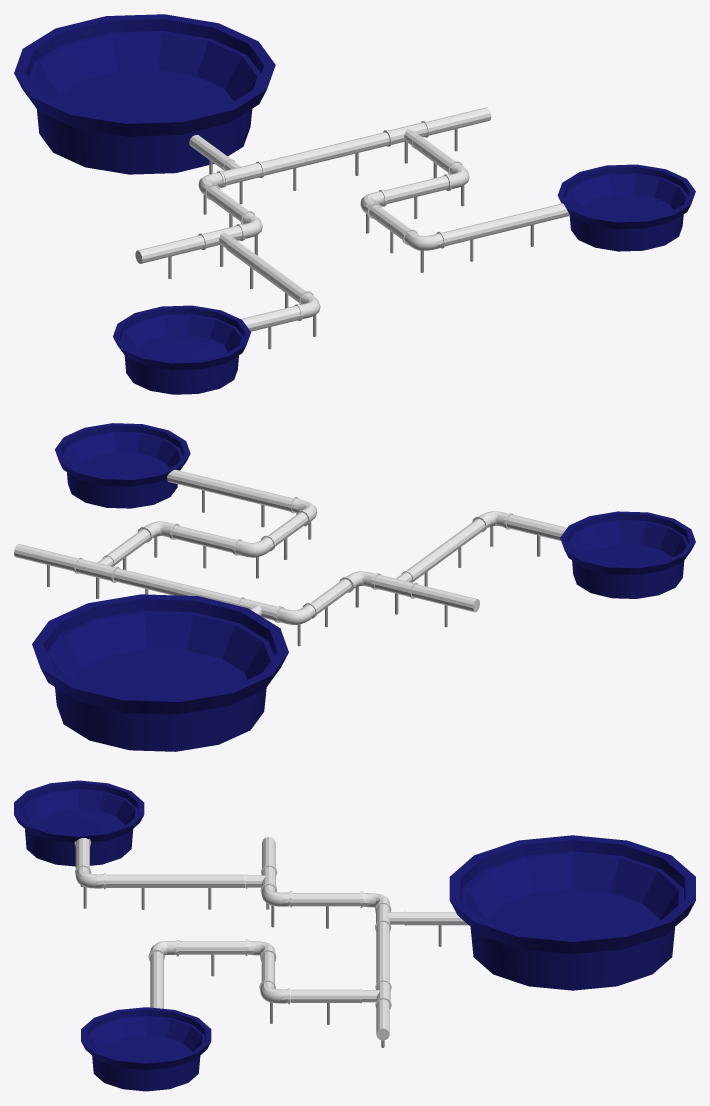
Rendered from MG-Caixa-d-Agua-canos.fbx.
The picture shows the model from 3 angles, top to bottom: view 1: azimuth 30°, elevation 25°; view 2: azimuth 150°, elevation 25°; view 3: azimuth 270°, elevation 25°; orthographic projection. The views are drawn at different scales.
Visible parts, largest first — view 1: pCylinder2, pCylinder57, pCylinder58, pCylinder53, pCylinder42, pCylinder41, pCylinder45, pCylinder54, pCylinder48, pCylinder52, pCylinder56, pCylinder35 (+9 smaller); view 2: pCylinder2, pCylinder57, pCylinder58, pCylinder53, pCylinder42, pCylinder52, pCylinder48, pCylinder45, pCylinder54, pCylinder56, pCylinder43, pCylinder38 (+8 smaller); view 3: pCylinder2, pCylinder58, pCylinder57, pCylinder39, pCylinder40, pCylinder51, pCylinder36, pCylinder50, pCylinder29, pCylinder43, pCylinder37, pCylinder55 (+4 smaller).
Boxes of the visible parts, x1,y1,x2,y2 form: pCylinder2: (14,14,275,174); pCylinder57: (113,305,250,394); pCylinder58: (557,164,695,251); pCylinder53: (135,235,204,263); pCylinder42: (322,132,389,160); pCylinder41: (261,147,326,175); pCylinder45: (384,176,449,203); pCylinder54: (426,107,491,135); pCylinder48: (442,218,507,246); pCylinder52: (502,203,569,231); pCylinder56: (241,305,300,331); pCylinder35: (219,159,264,187); pCylinder2: (32,594,288,751); pCylinder57: (560,511,695,598); pCylinder58: (55,423,190,508); pCylinder53: (411,584,479,612); pCylinder42: (113,568,179,595); pCylinder52: (167,469,233,496); pCylinder48: (229,484,292,511); pCylinder45: (172,525,236,552); pCylinder54: (14,544,77,571); pCylinder56: (507,514,566,540); pCylinder43: (74,555,119,582); pCylinder38: (372,571,418,598); pCylinder2: (449,835,695,990); pCylinder58: (81,1007,211,1091); pCylinder57: (14,780,144,866); pCylinder39: (175,874,245,887); pCylinder40: (105,874,175,887); pCylinder51: (290,989,360,1002); pCylinder36: (292,893,360,906); pCylinder50: (178,941,245,954); pCylinder29: (406,912,468,925); pCylinder43: (360,979,391,1009); pCylinder37: (260,883,292,907); pCylinder55: (75,864,105,889).
Size of the model in its own units: 7.3 by 0.7121 by 7.47.
